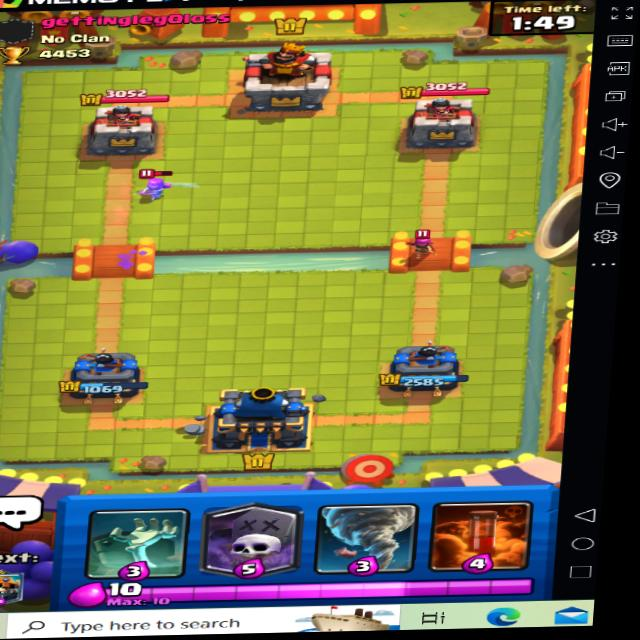archer: (137, 165, 181, 200), (406, 227, 444, 259)
